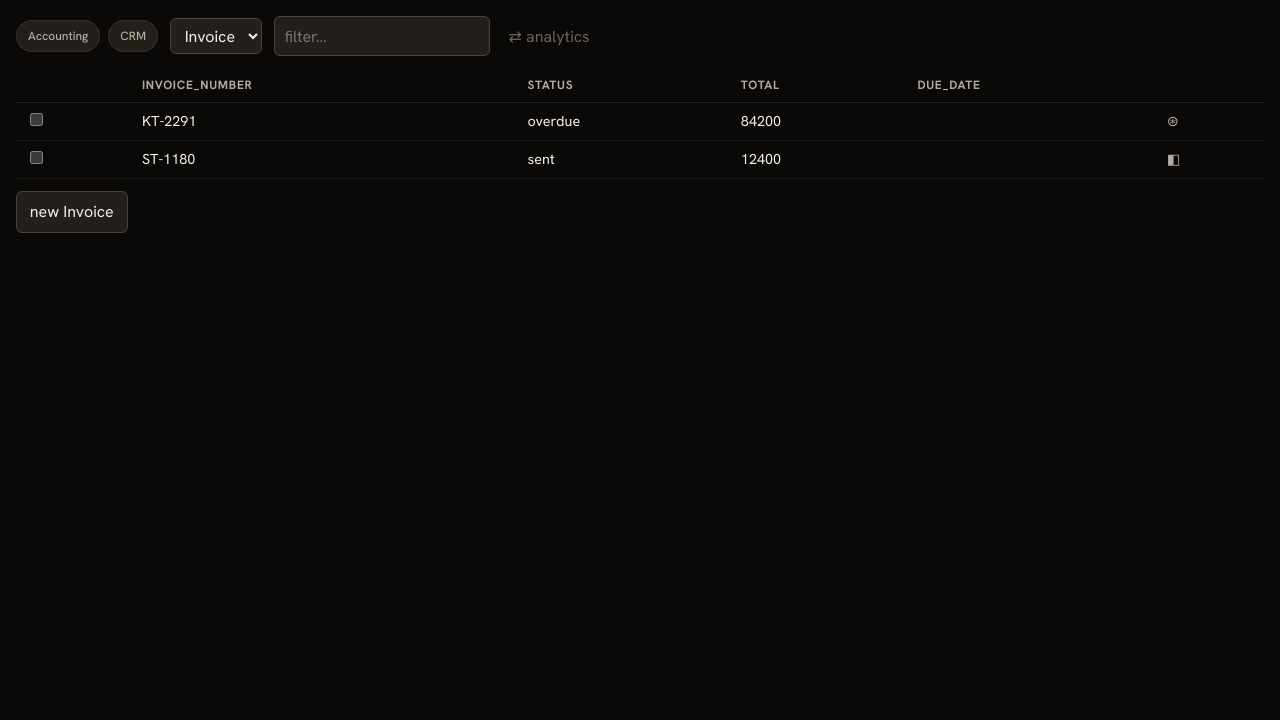
Test case: bulk is T2 — the ceremony, never a confirm dialog › refusal → step-up → retry whole → applied + echoed
Expected: the row "KT-2291 overdue 84200 ⊛" is shown, [16, 102, 1264, 140]
Click the checkbox named "select aaaaaaaa". click: (36, 119)
box: [30, 113, 43, 126]
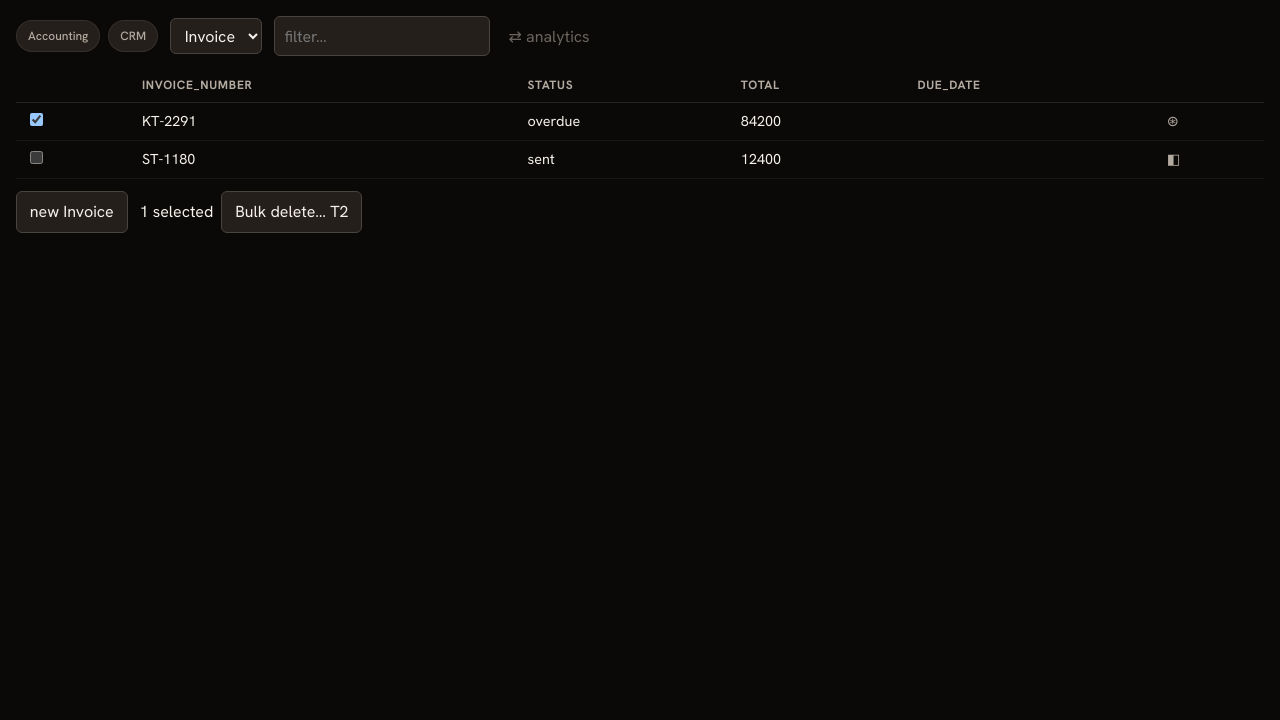
Click the checkbox named "select bbbbbbbb". click: (36, 158)
box: [30, 151, 43, 164]
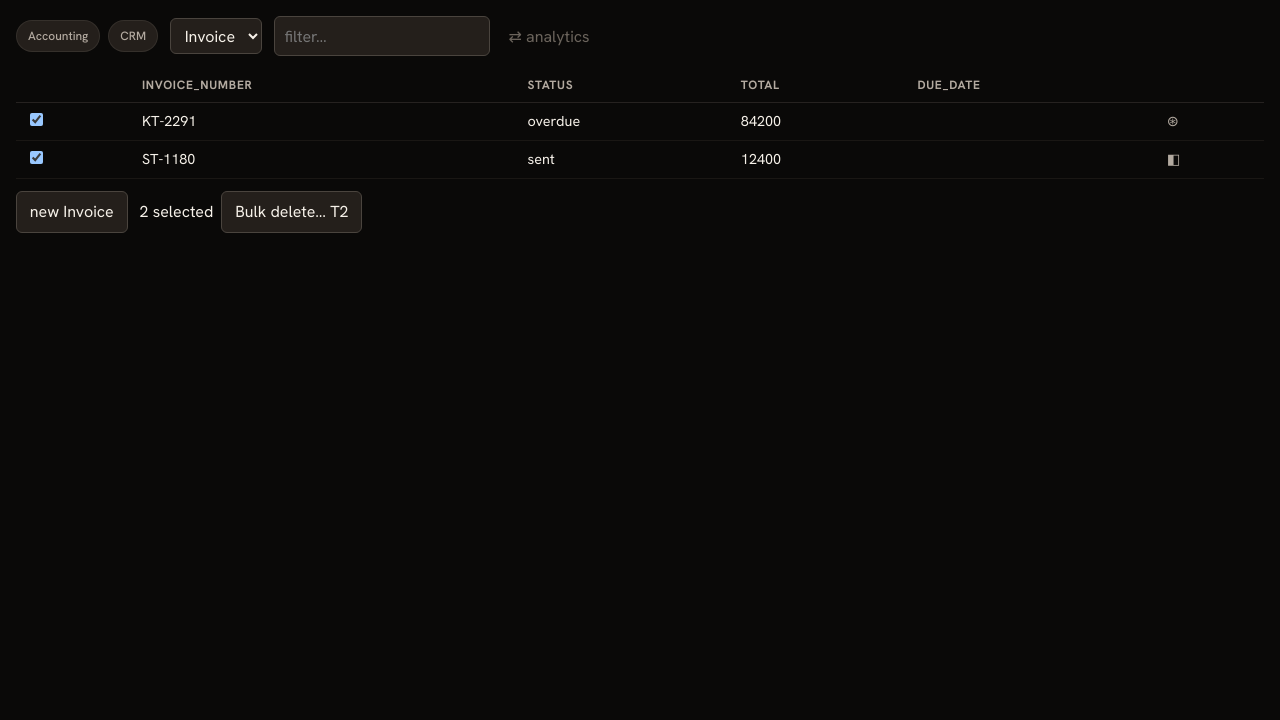
Click the button "Bulk delete… T2". click: (292, 212)
box: [221, 191, 362, 233]
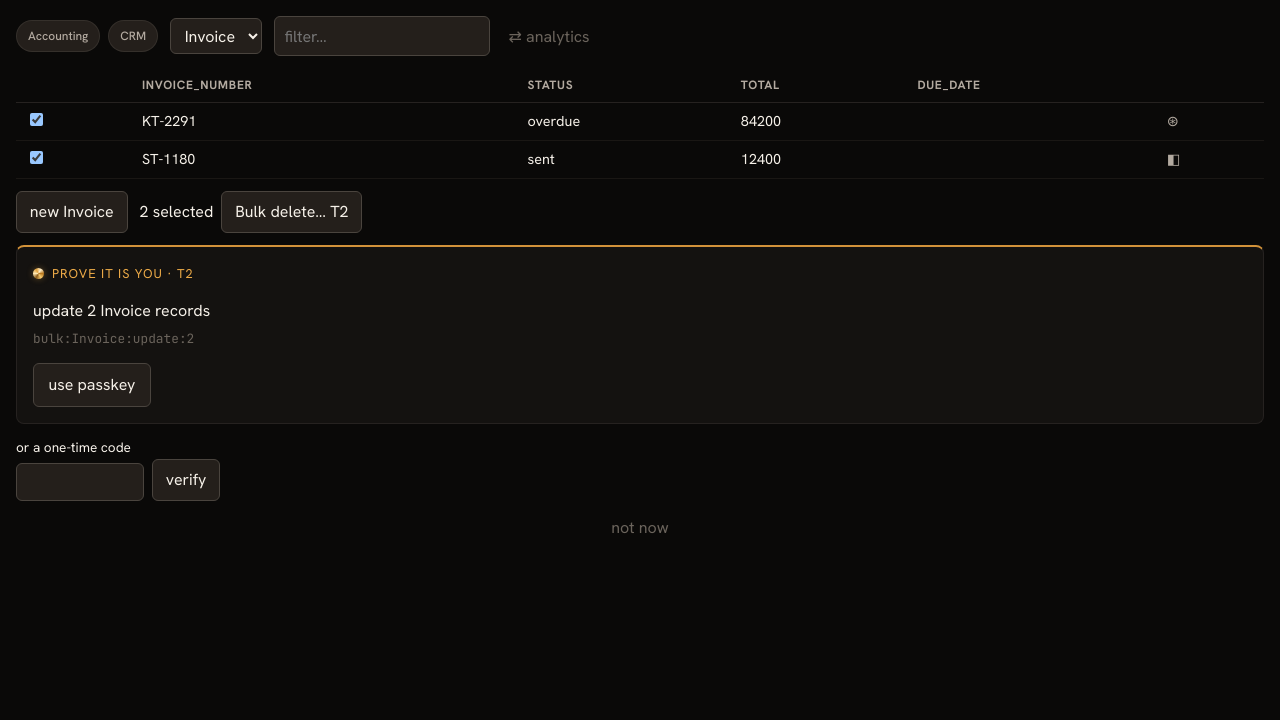
Expected: the element that starts with "Prove it is you · T2" is shown, [16, 245, 1264, 542]
Type "123456" into the field labelled "or a one-time code". click: (80, 482)
box: [16, 463, 144, 501]
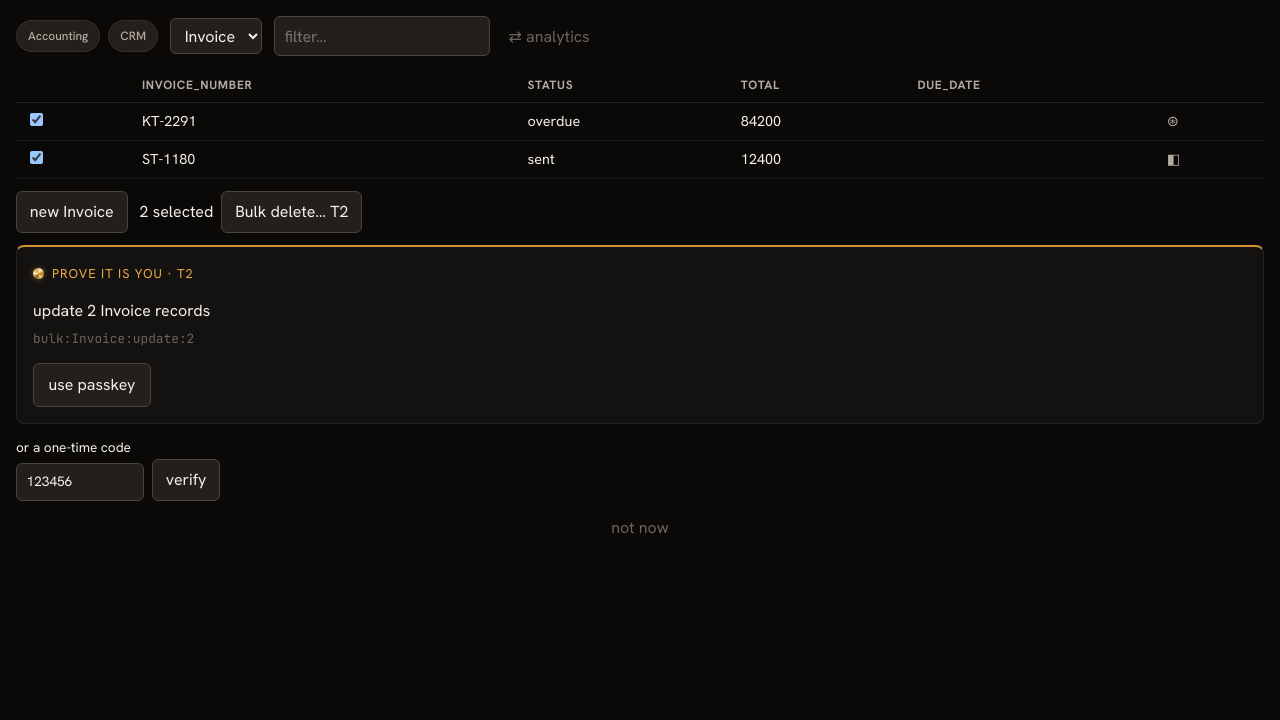
Click the button "verify". click: (186, 480)
box: [152, 459, 220, 501]
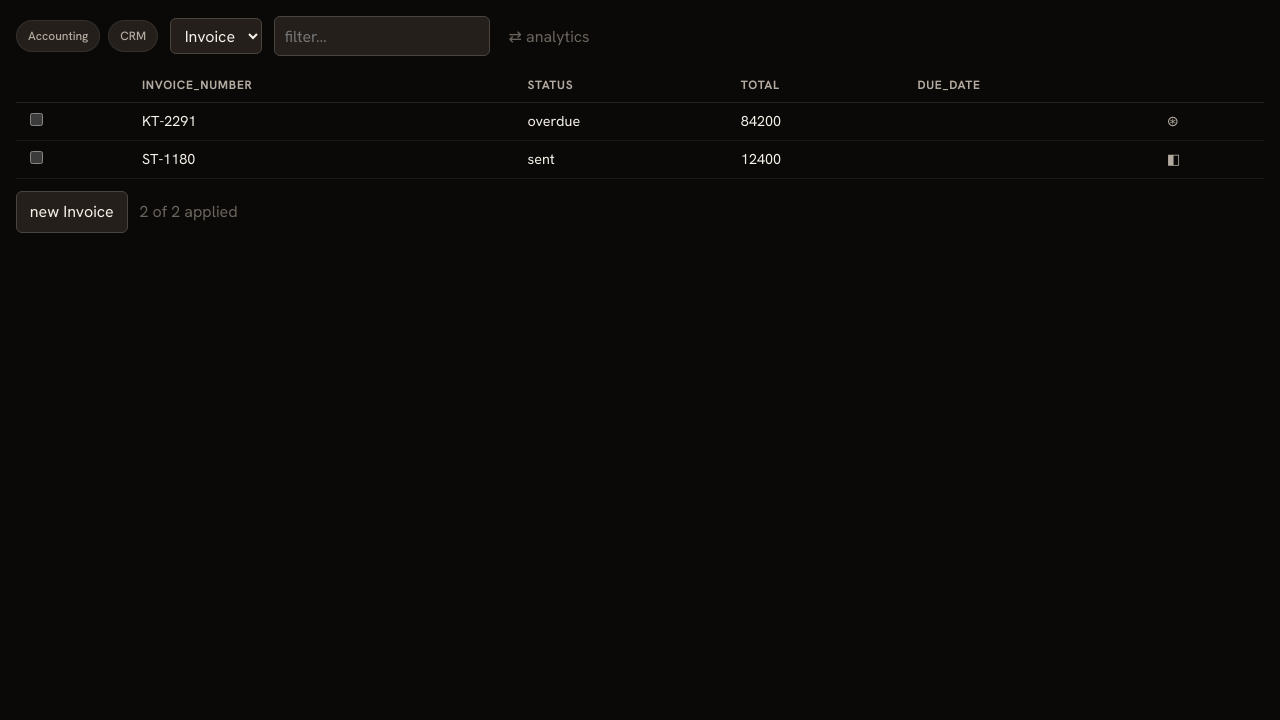
Expected: the text "2 of 2 applied" is shown, [140, 198, 238, 226]
